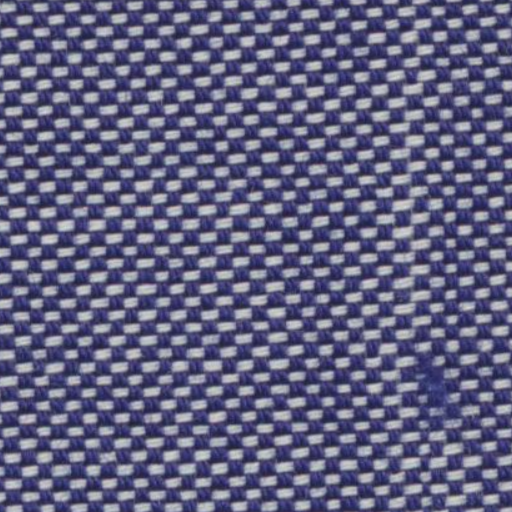TuoSha: (372, 20, 472, 482)
